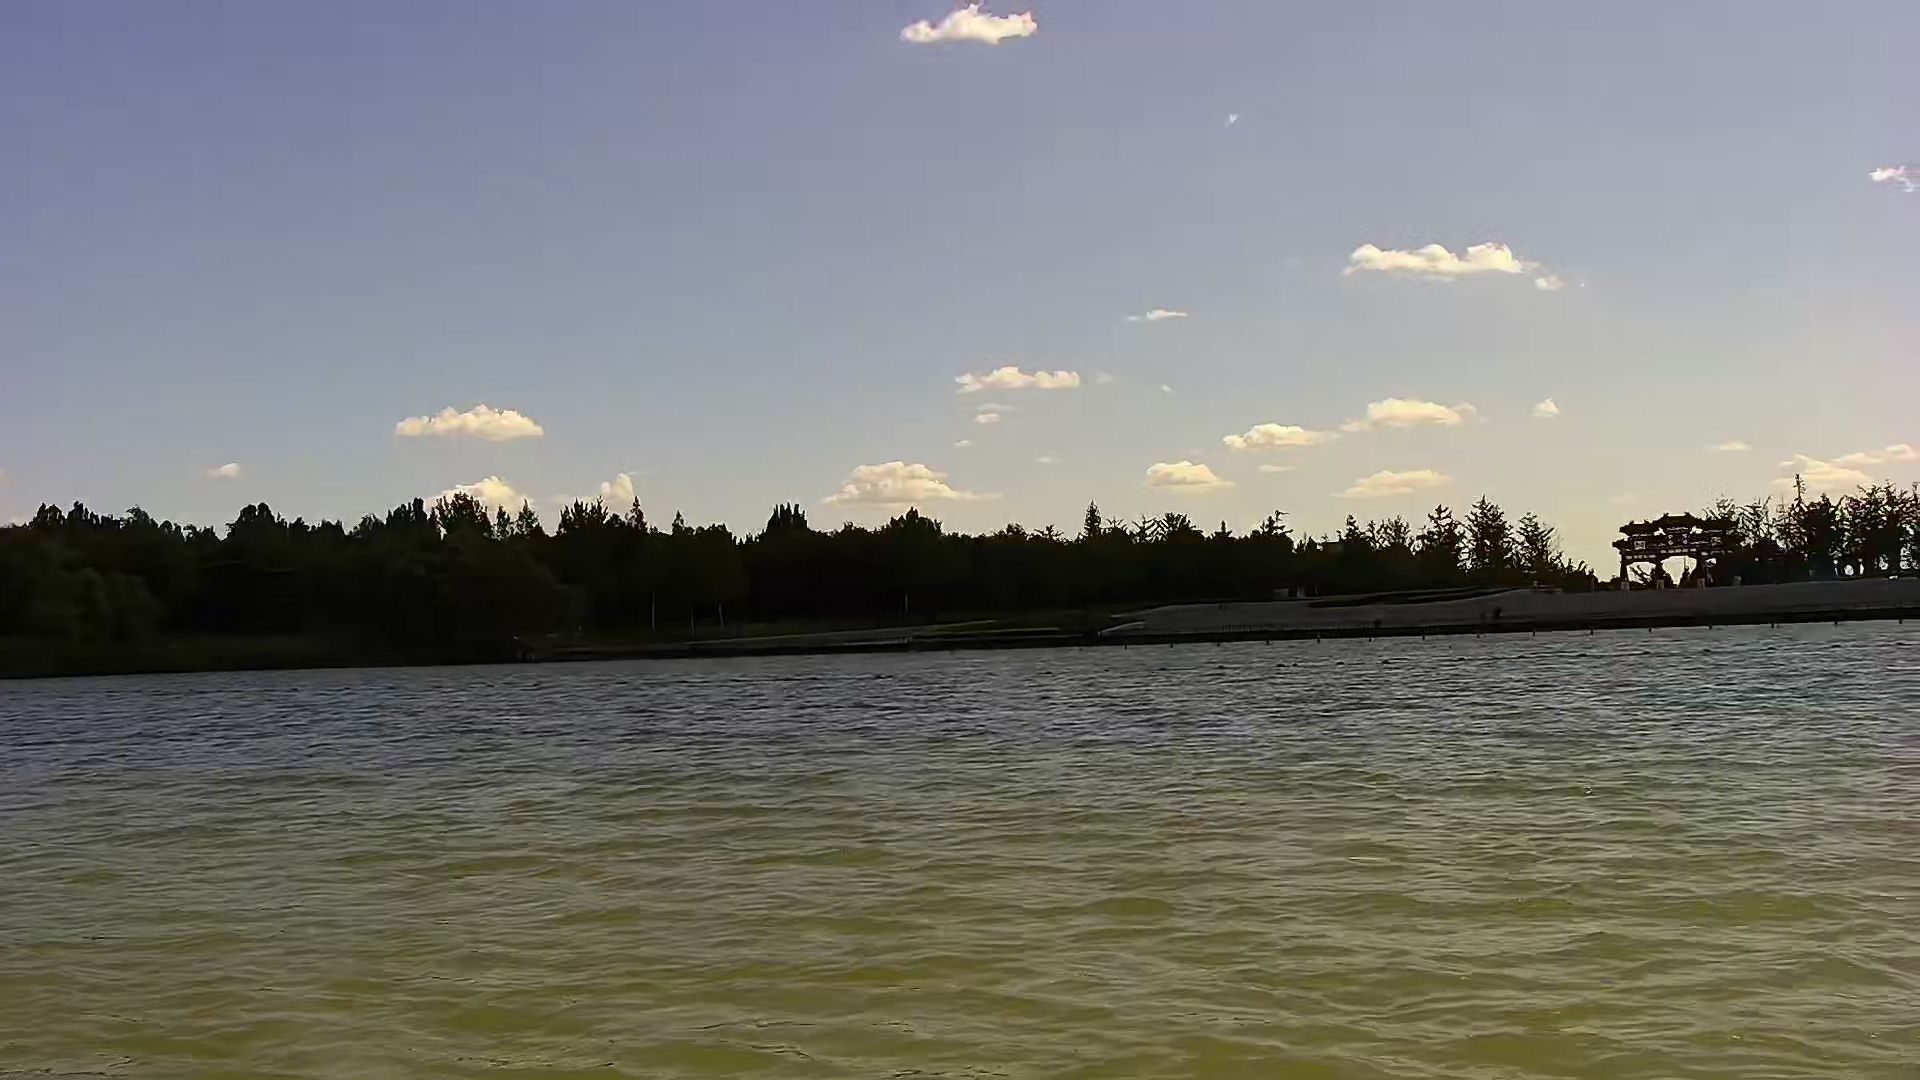harbor: (644, 584, 1920, 665)
